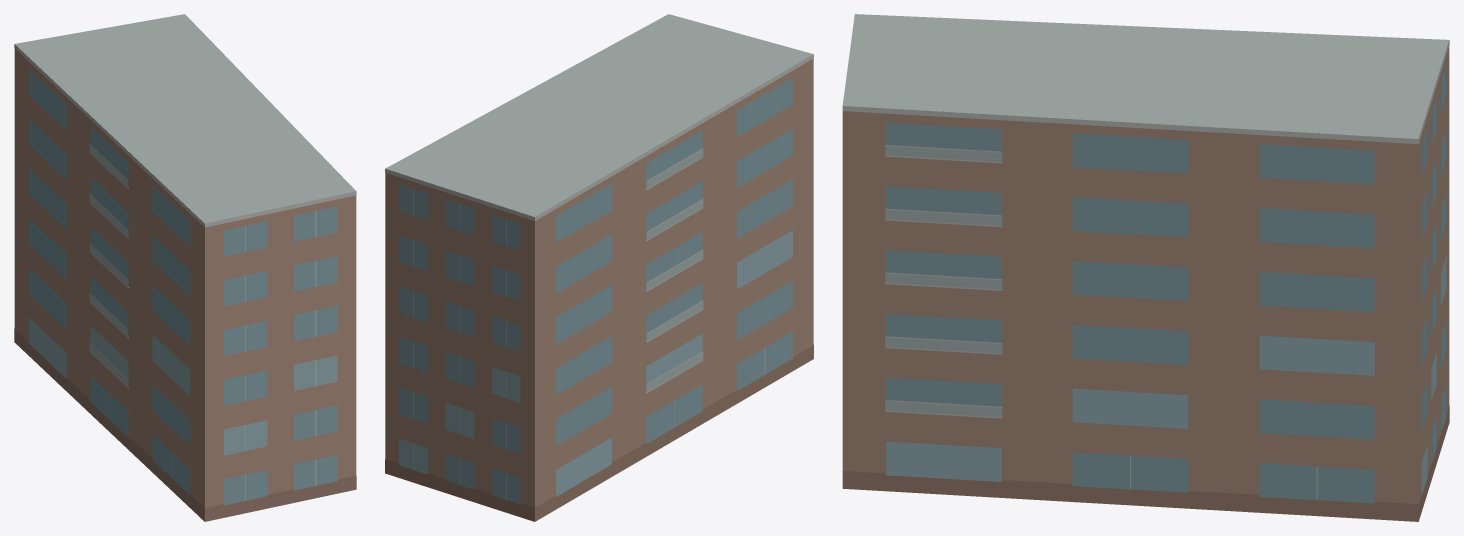
File: survey-upis-33038972.glb
The picture shows the model from 3 angles, left to right: view 1: azimuth 30°, elevation 25°; view 2: azimuth 150°, elevation 25°; view 3: azimuth 270°, elevation 25°; orthographic projection. The views are drawn at different scales.
Visible parts, largest first — view 1: survey-upis-33038972.tmp; view 2: survey-upis-33038972.tmp; view 3: survey-upis-33038972.tmp.
Boxes of the visible parts, <box> form: survey-upis-33038972.tmp: <box>14,14,356,521</box>; survey-upis-33038972.tmp: <box>385,14,813,521</box>; survey-upis-33038972.tmp: <box>842,14,1449,521</box>.
Bounding box in the file's own units: 12.77 × 18.2 × 26.16.
